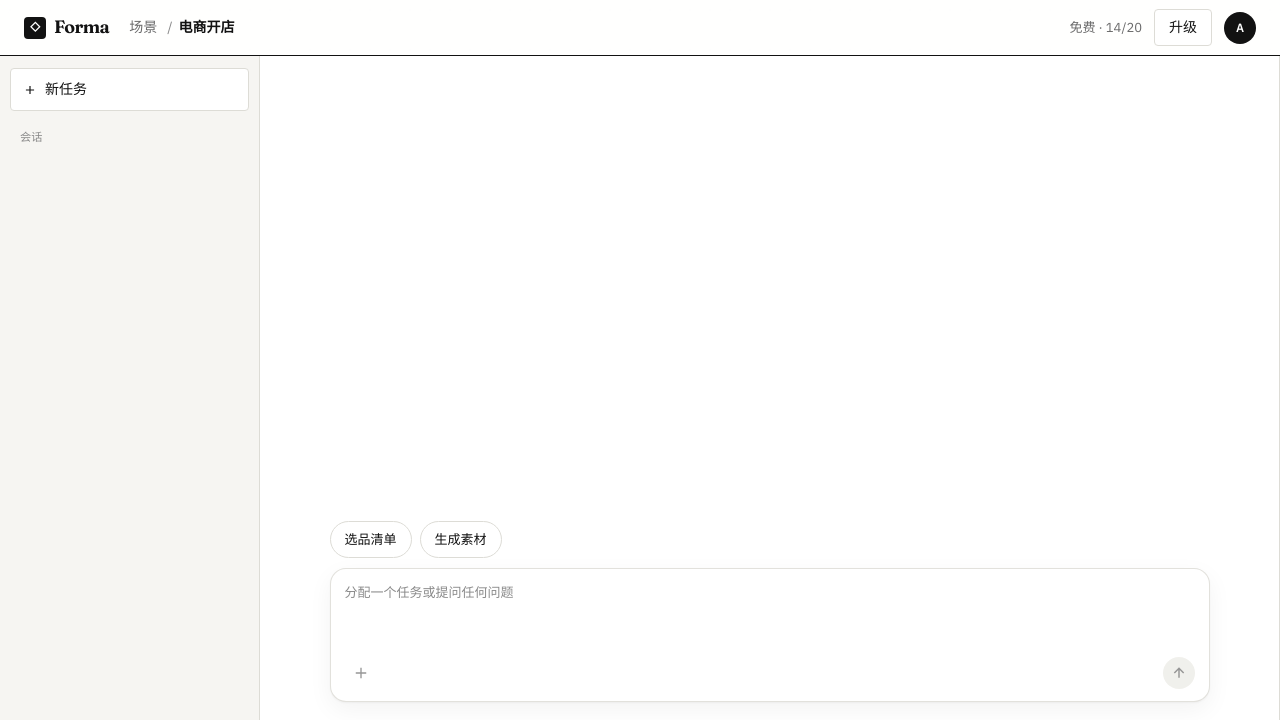
Test: Workspace ecommerce session shell › session listing capsule fills prompt without sending or generation API
Click the button "生成素材" at (460, 539), box [420,520,502,558]
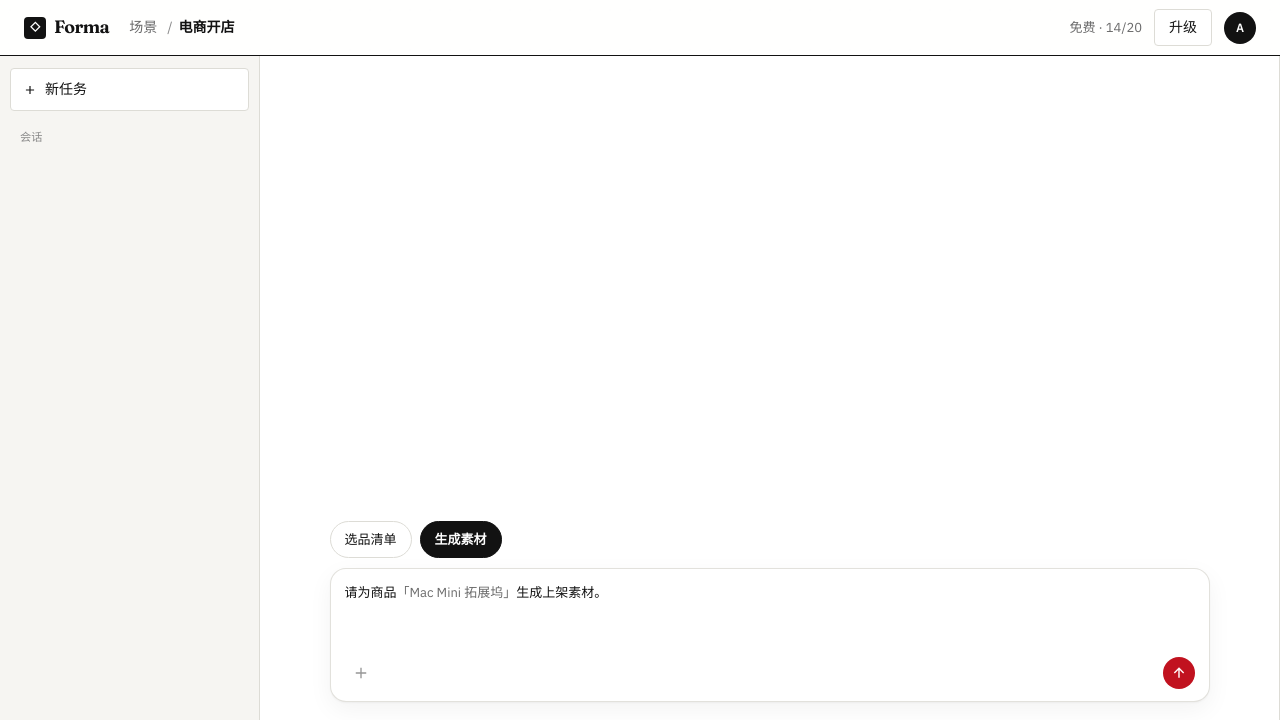
Check: the text "「Mac Mini 拓展坞」" is shown, box [396,584,516,601]
